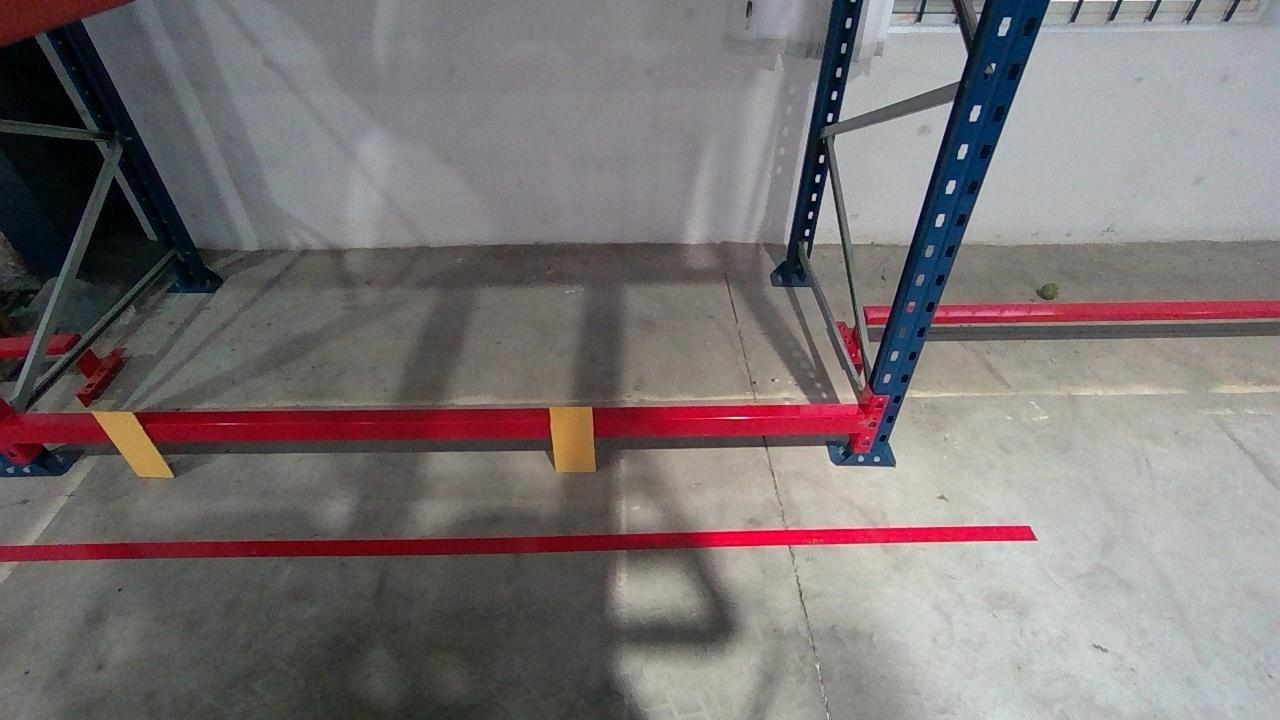h_rack: (2, 414, 866, 442)
orange_strip: (89, 411, 178, 477), (548, 406, 597, 473)
red_line: (0, 525, 1038, 558)
